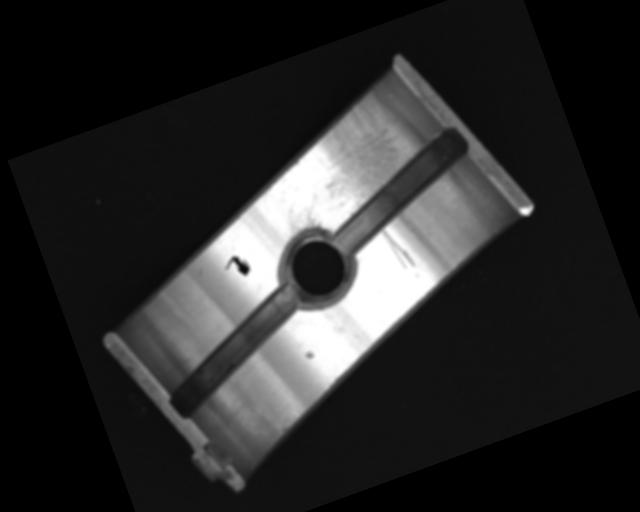blot: (221, 251, 252, 283)
bruise: (302, 348, 316, 361)
gap: (145, 279, 327, 420), (313, 125, 488, 256)
hole: (267, 217, 365, 315)
nick: (380, 220, 418, 275)
scratch: (245, 86, 419, 242)
